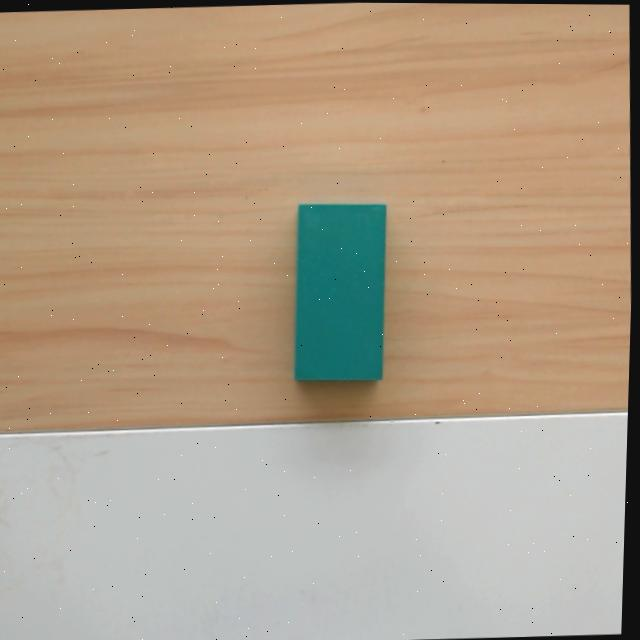Balok-Hijau-1005025: (292, 200, 385, 382)
